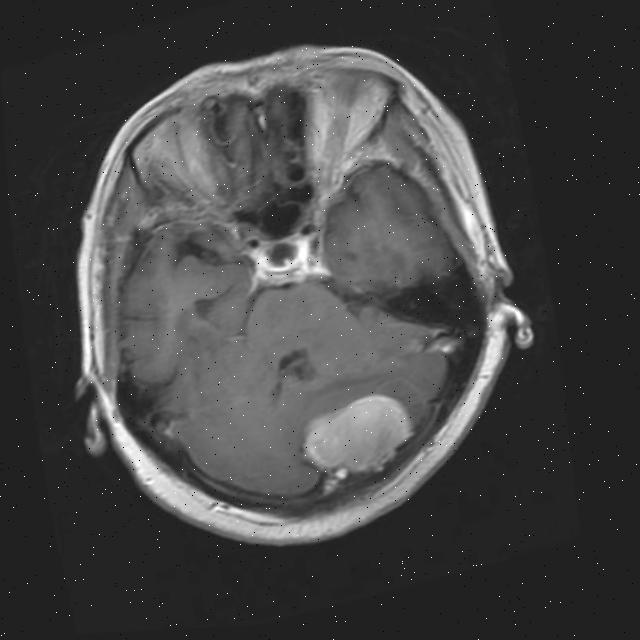Meningioma: (292, 383, 424, 491)
